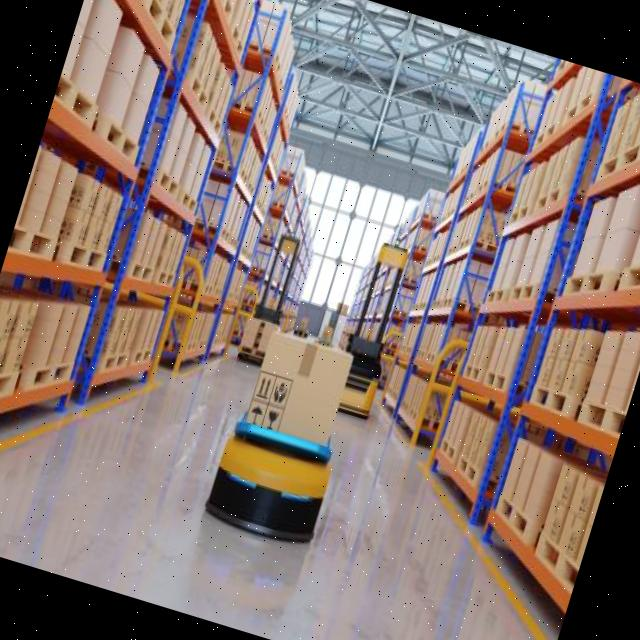Wooden-Pallets: (92, 101, 145, 171), (522, 369, 579, 433), (488, 482, 536, 554), (55, 230, 112, 284), (140, 0, 182, 63), (557, 262, 619, 302), (19, 359, 78, 398), (591, 142, 640, 188)
